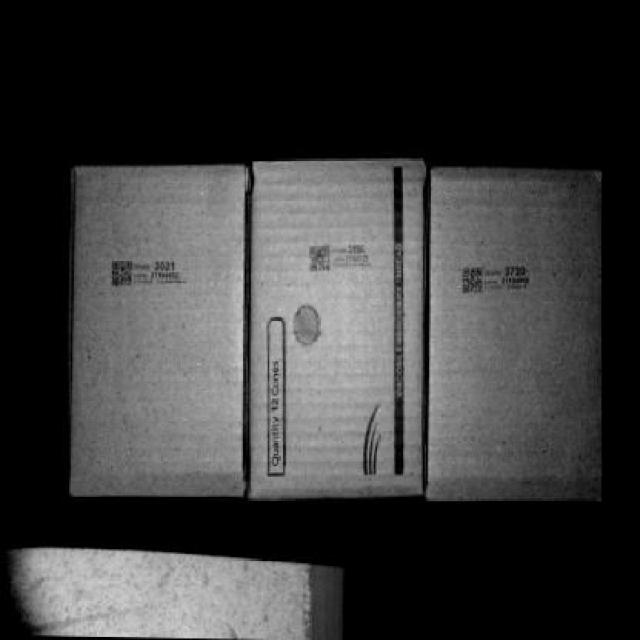cardboxes: (428, 164, 604, 502), (73, 168, 249, 500), (252, 167, 428, 498)
